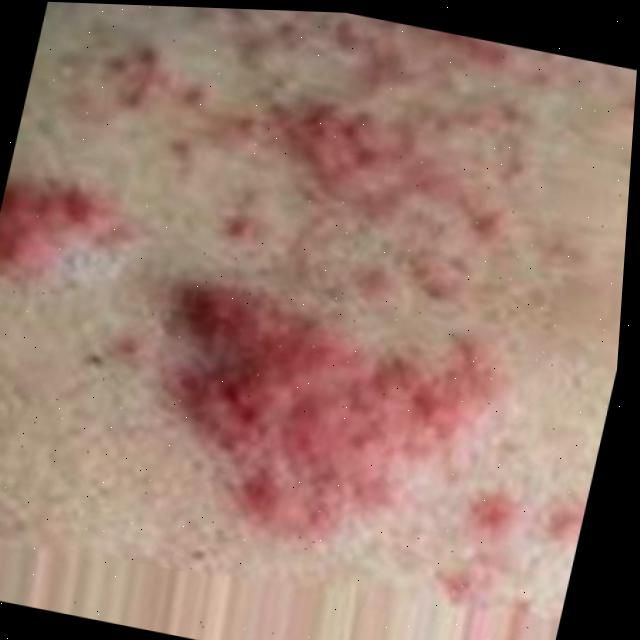Shingles: (124, 5, 542, 313), (178, 301, 500, 558), (0, 178, 98, 277)
